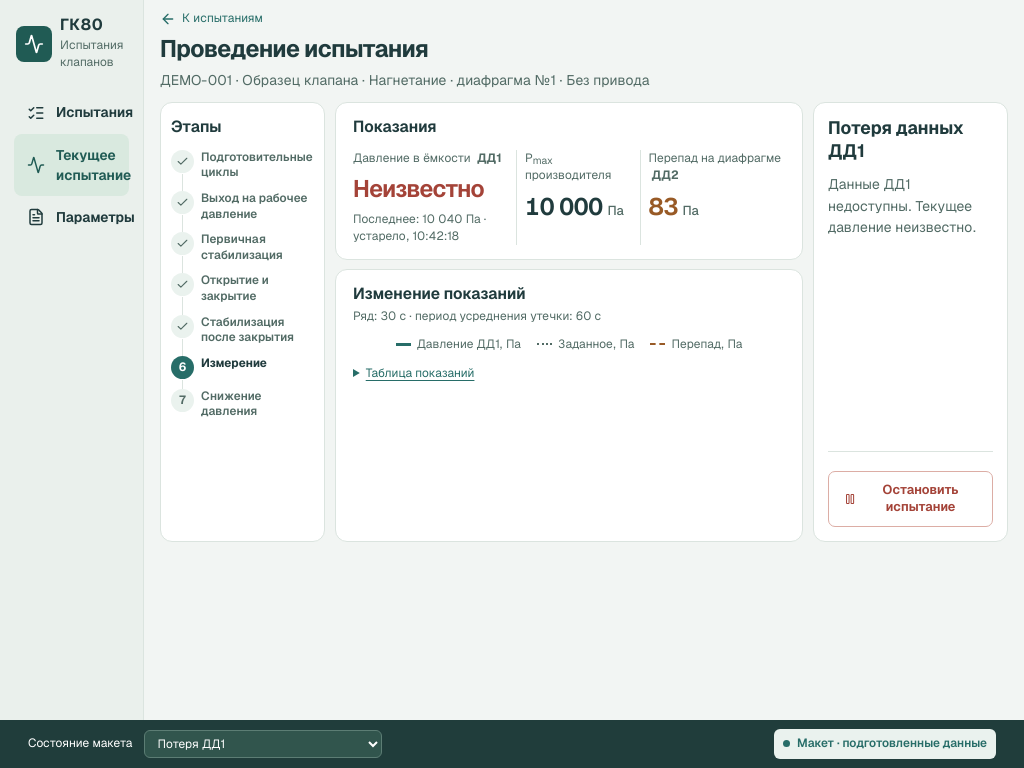
подготовленные состояния оператора › после просмотра параметров сохраняет запрос остановки и потерю ДД1
Click the button "Параметры" at (72, 217), box left=14, top=196, right=129, bottom=239
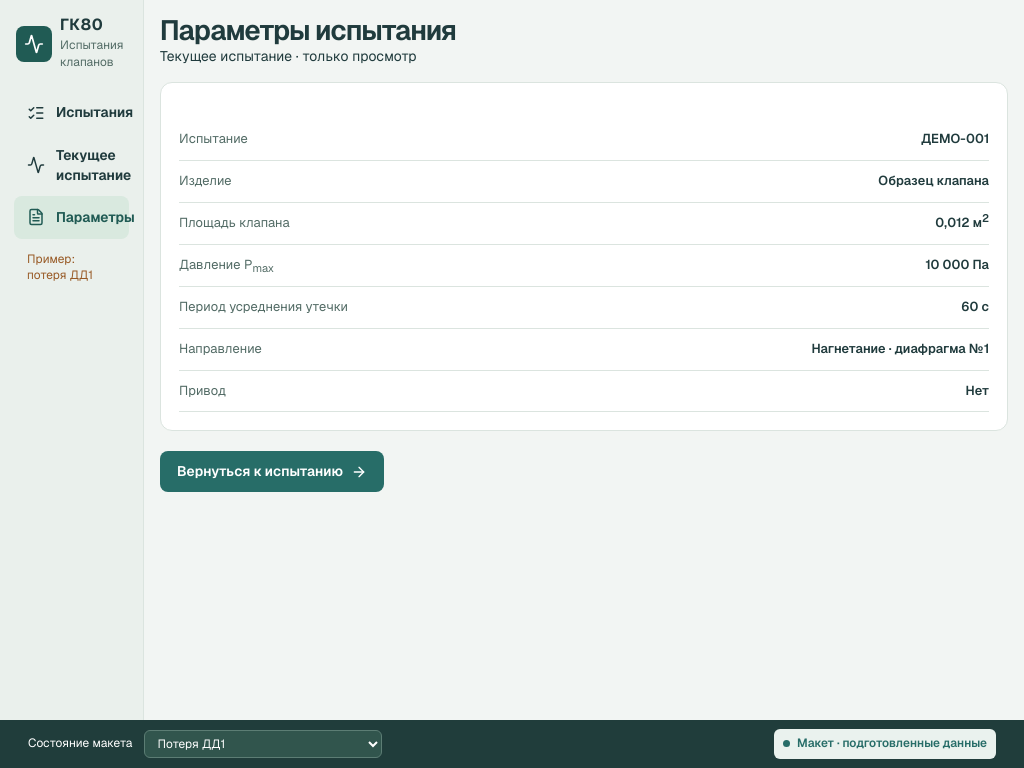
Expected: the text "Пример: потеря ДД1" is shown, left=27, top=251, right=93, bottom=283
Click the button "Текущее испытание" at (72, 165), box left=14, top=134, right=129, bottom=196
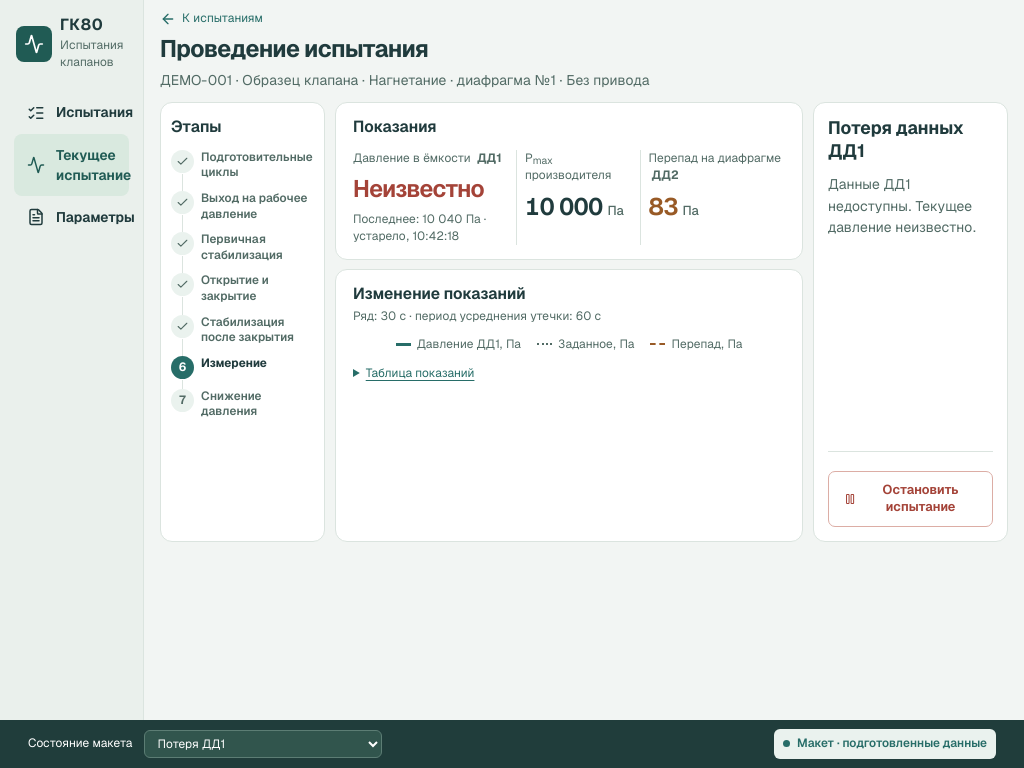
Click the button "Остановить испытание" at (910, 499), box left=828, top=471, right=993, bottom=527
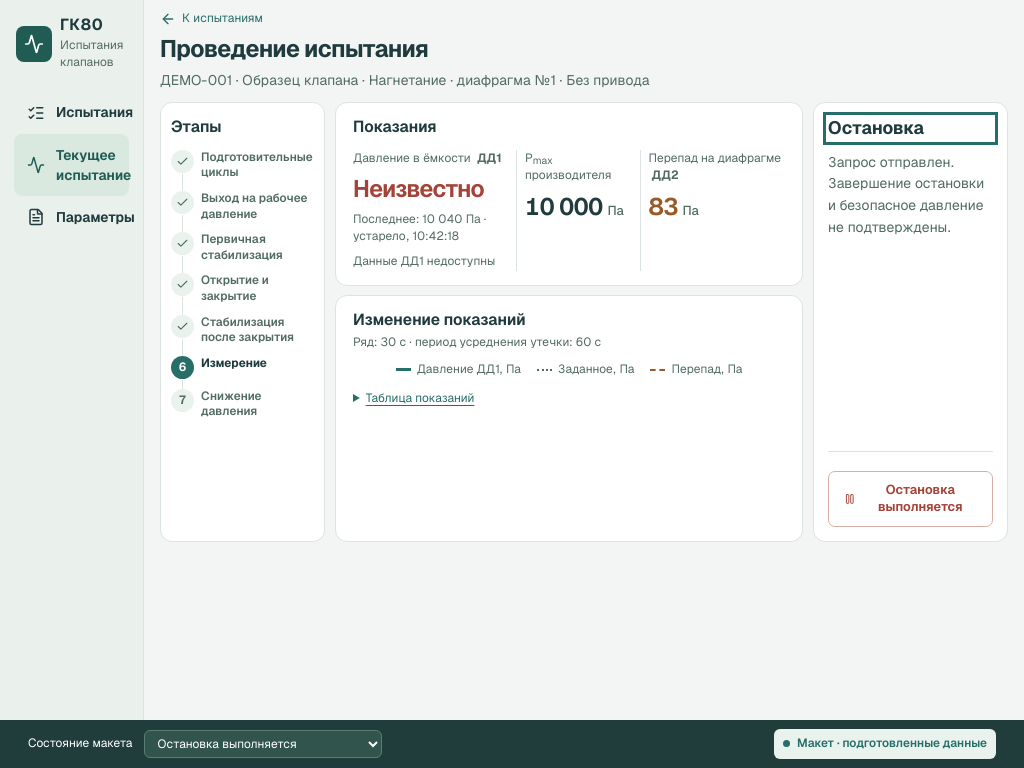
Click the button "Параметры" at (72, 217), box left=14, top=196, right=129, bottom=239
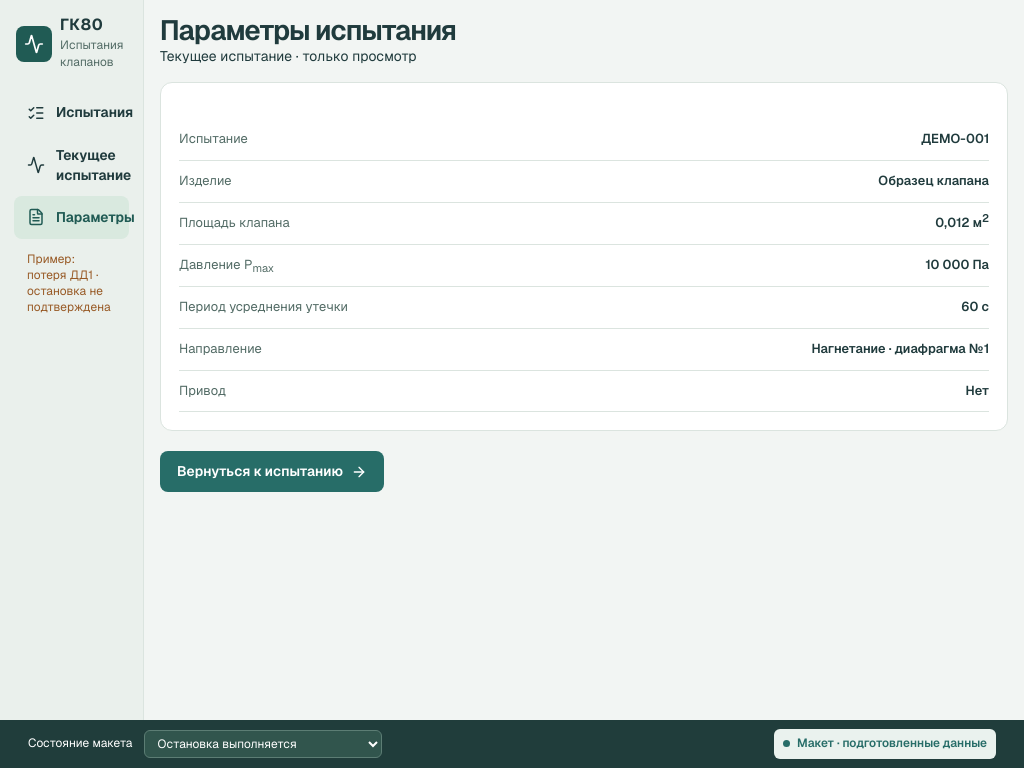
Expected: the text "Пример: потеря ДД1 · остановка не подтверждена" is shown, left=27, top=251, right=116, bottom=315
Click the button "Текущее испытание" at (72, 165), box left=14, top=134, right=129, bottom=196
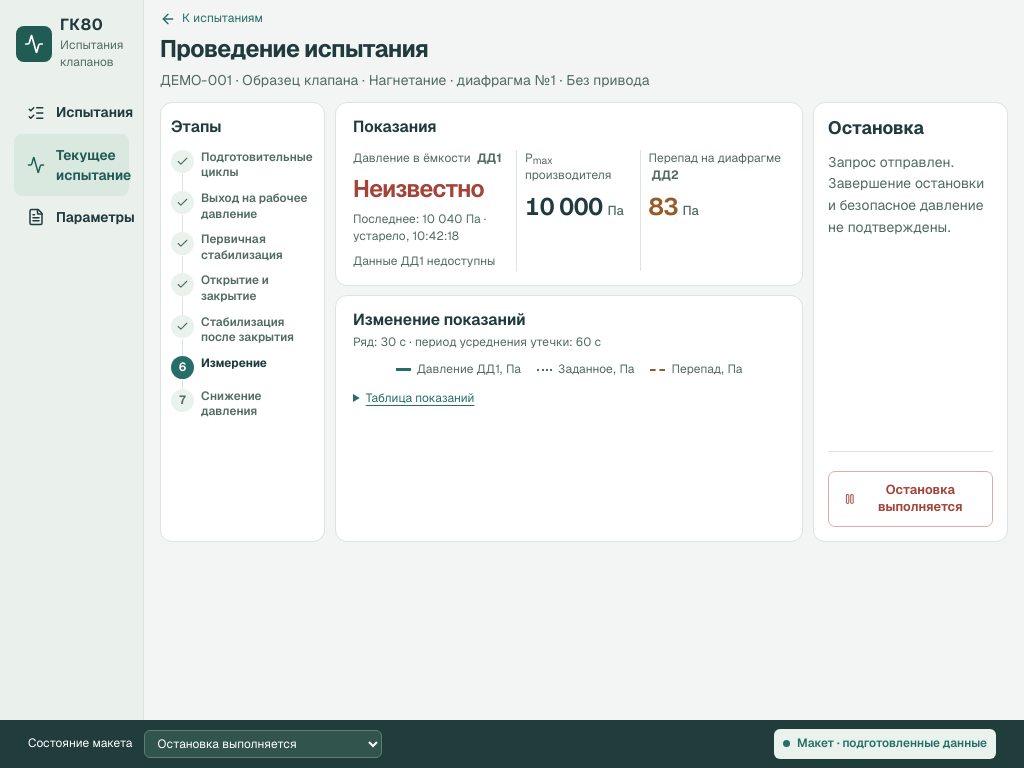
Expected: the text "Данные ДД1 недоступны" is shown, left=353, top=253, right=508, bottom=271
Expected: the button "Остановка выполняется" is disabled, left=828, top=471, right=993, bottom=527
Expected: the text "Последнее: 10 040 Па · устарело, 10:42:18" is shown, left=353, top=211, right=508, bottom=245
